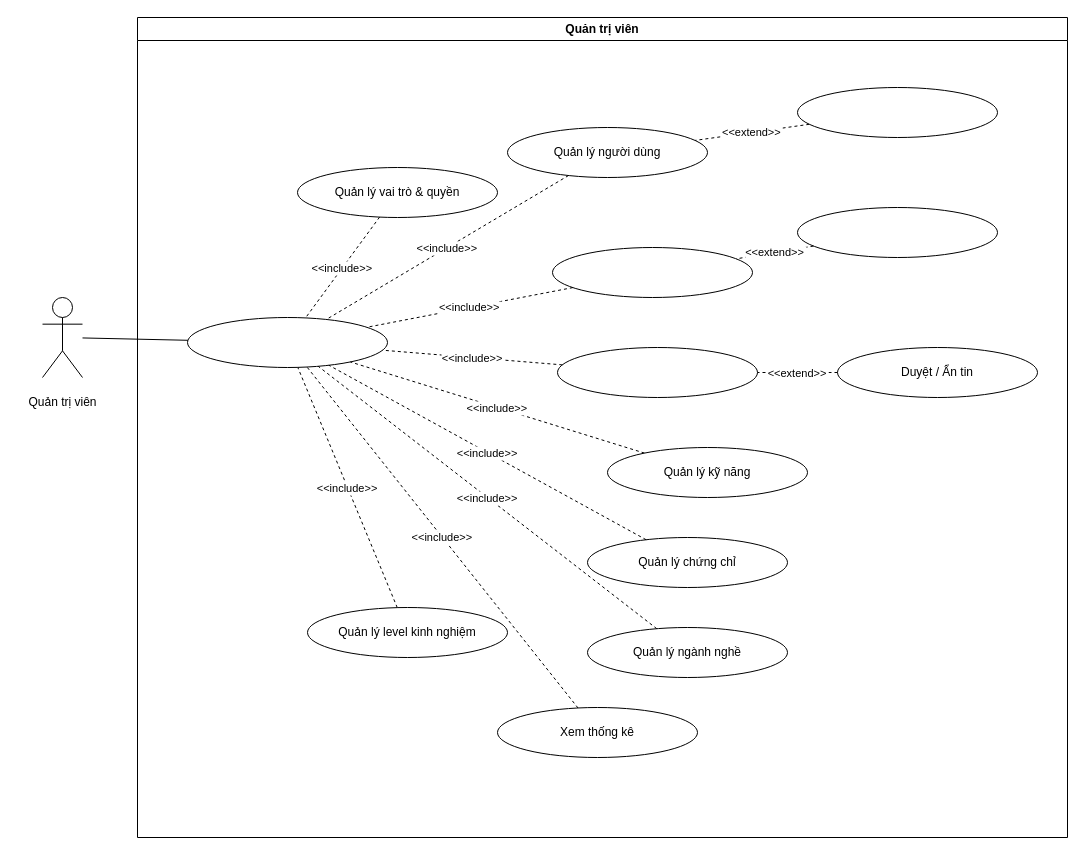
The diagram is 1085 pixels wide and 855 high, and some of its shapes have lost their labels. Here are the shapes that lost their labels. From the top down, the centre of each, then its label:
At pixel 897 112: "Thay đổi / Khóa người dùng".
At pixel 897 232: "Chỉnh sửa thông tin công ty".
At pixel 652 272: "Quản lý công ty".
At pixel 287 342: "Đăng nhập".
At pixel 657 372: "Quản lý tin tuyển dụng".
